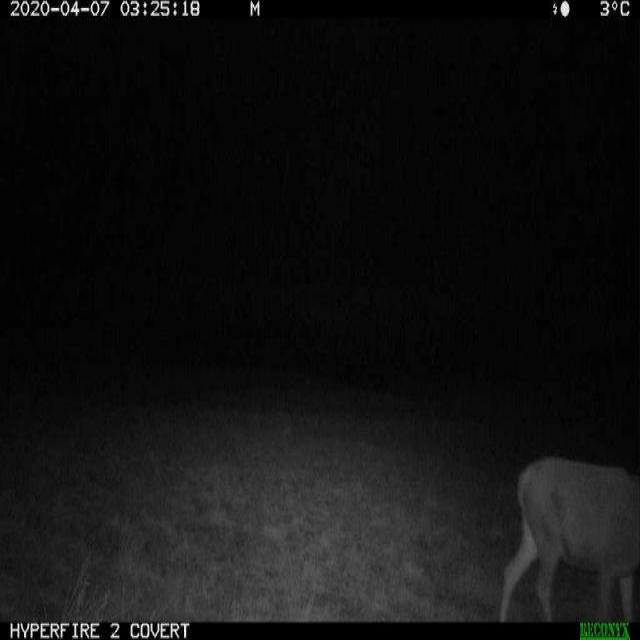deer: (479, 446, 638, 626)
